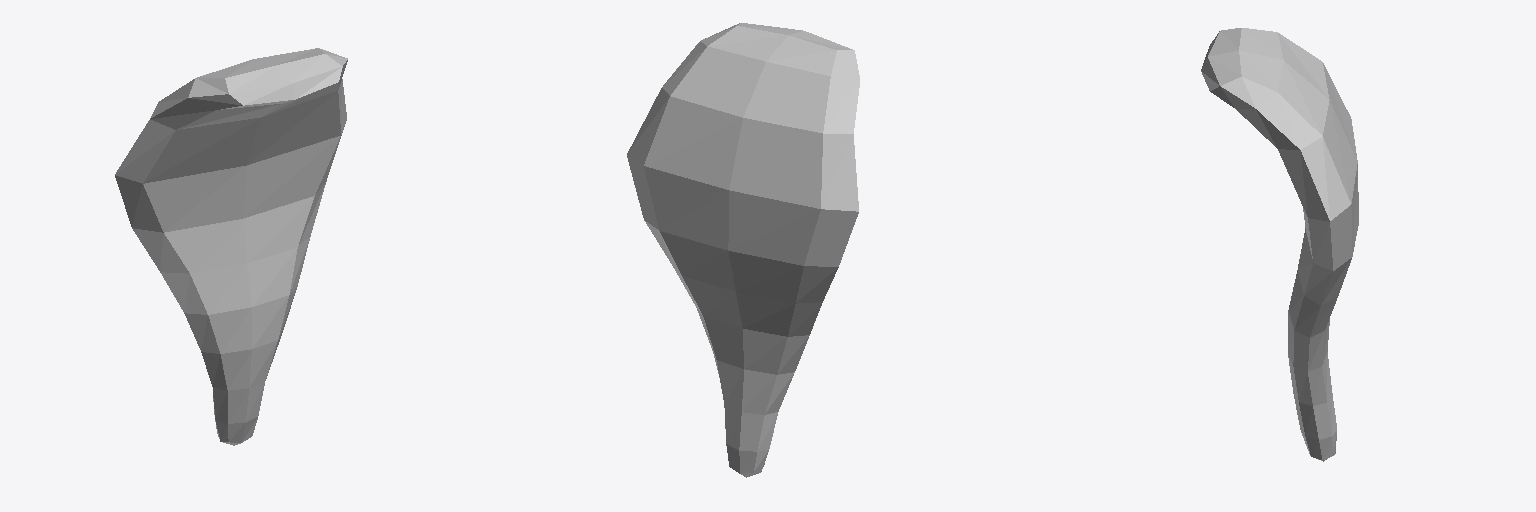
Rendered from Grass3D2.obj.
3 views of the same model, side by side, from view 1: azimuth 30°, elevation 25°; view 2: azimuth 150°, elevation 25°; view 3: azimuth 270°, elevation 25° (orthographic).
Visible parts, largest first — view 1: Group35060; view 2: Group35060; view 3: Group35060.
Part boxes in pixels (bbox=[...]): Group35060: bbox=[115, 48, 347, 445]; Group35060: bbox=[627, 23, 859, 477]; Group35060: bbox=[1201, 28, 1358, 461].
Size of the model in its own units: 0.2538 by 0.4289 by 0.1497.